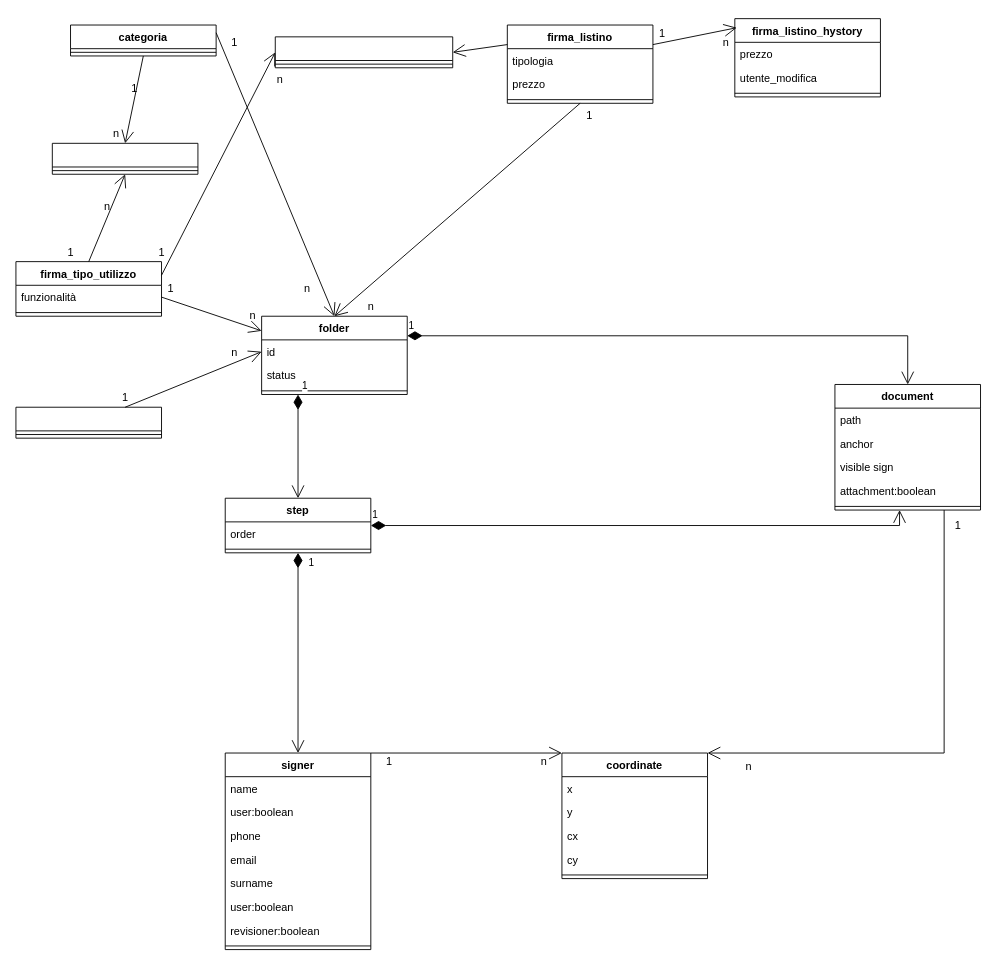
Some shapes in this 996 by 966 pixel diagram are drawn without their labels. The centre of each missing label's shape, as x and y in pixels:
categoria_firma_tipo_utilizzo: pixel 124 158
firma_tipo_utilizzo_firma_listino: pixel 363 52
utenti_gu: pixel 88 422
